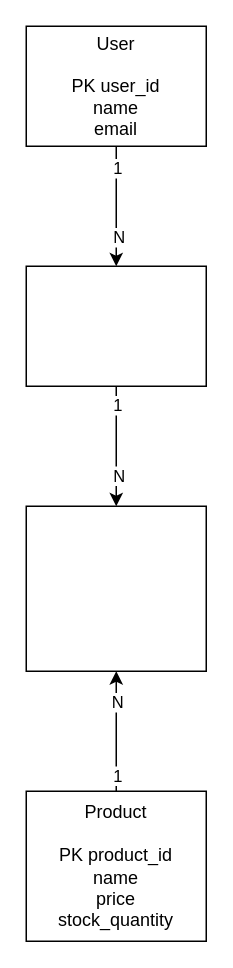
Image size: 233x968. Some labels were removed from this diagram. Each missing label, with the box of its shape:
Cart PK cart_id FK user_id created_at: (25, 265, 206, 386)
CartItem PK cart_item_id FK cart_id FK product_id quantity price: (25, 505, 206, 671)
